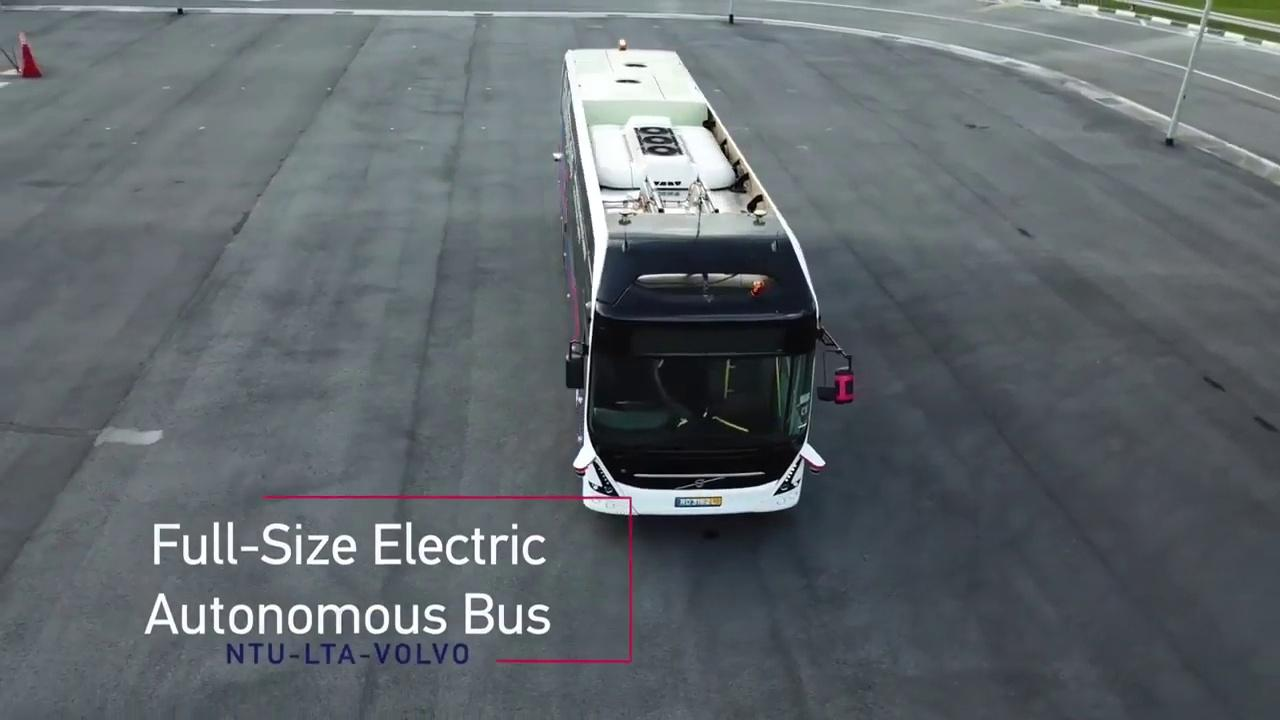Bus: (554, 40, 855, 517)
